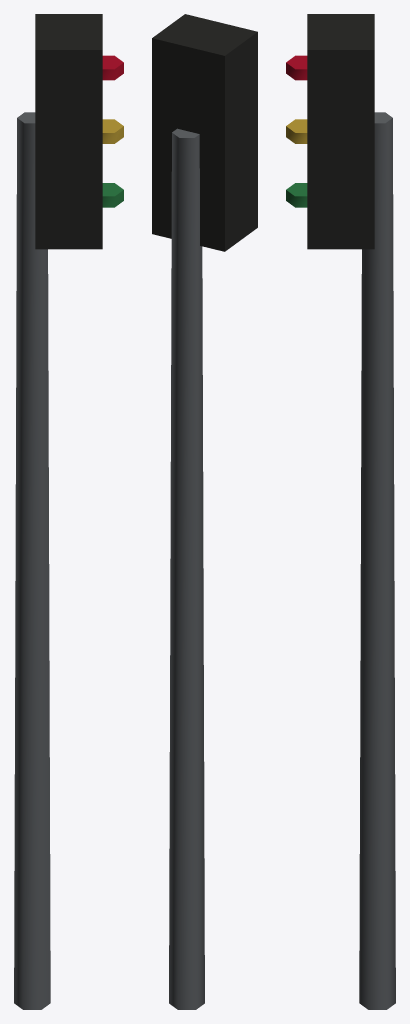
The model's file is furniture-signal.glb.
3 views of the same model, side by side, from view 1: azimuth 90°, elevation 25°; view 2: azimuth 150°, elevation 25°; view 3: azimuth 270°, elevation 25° (orthographic).
Bounding box in the file's own units: 0.28 × 3.51 × 0.36.
